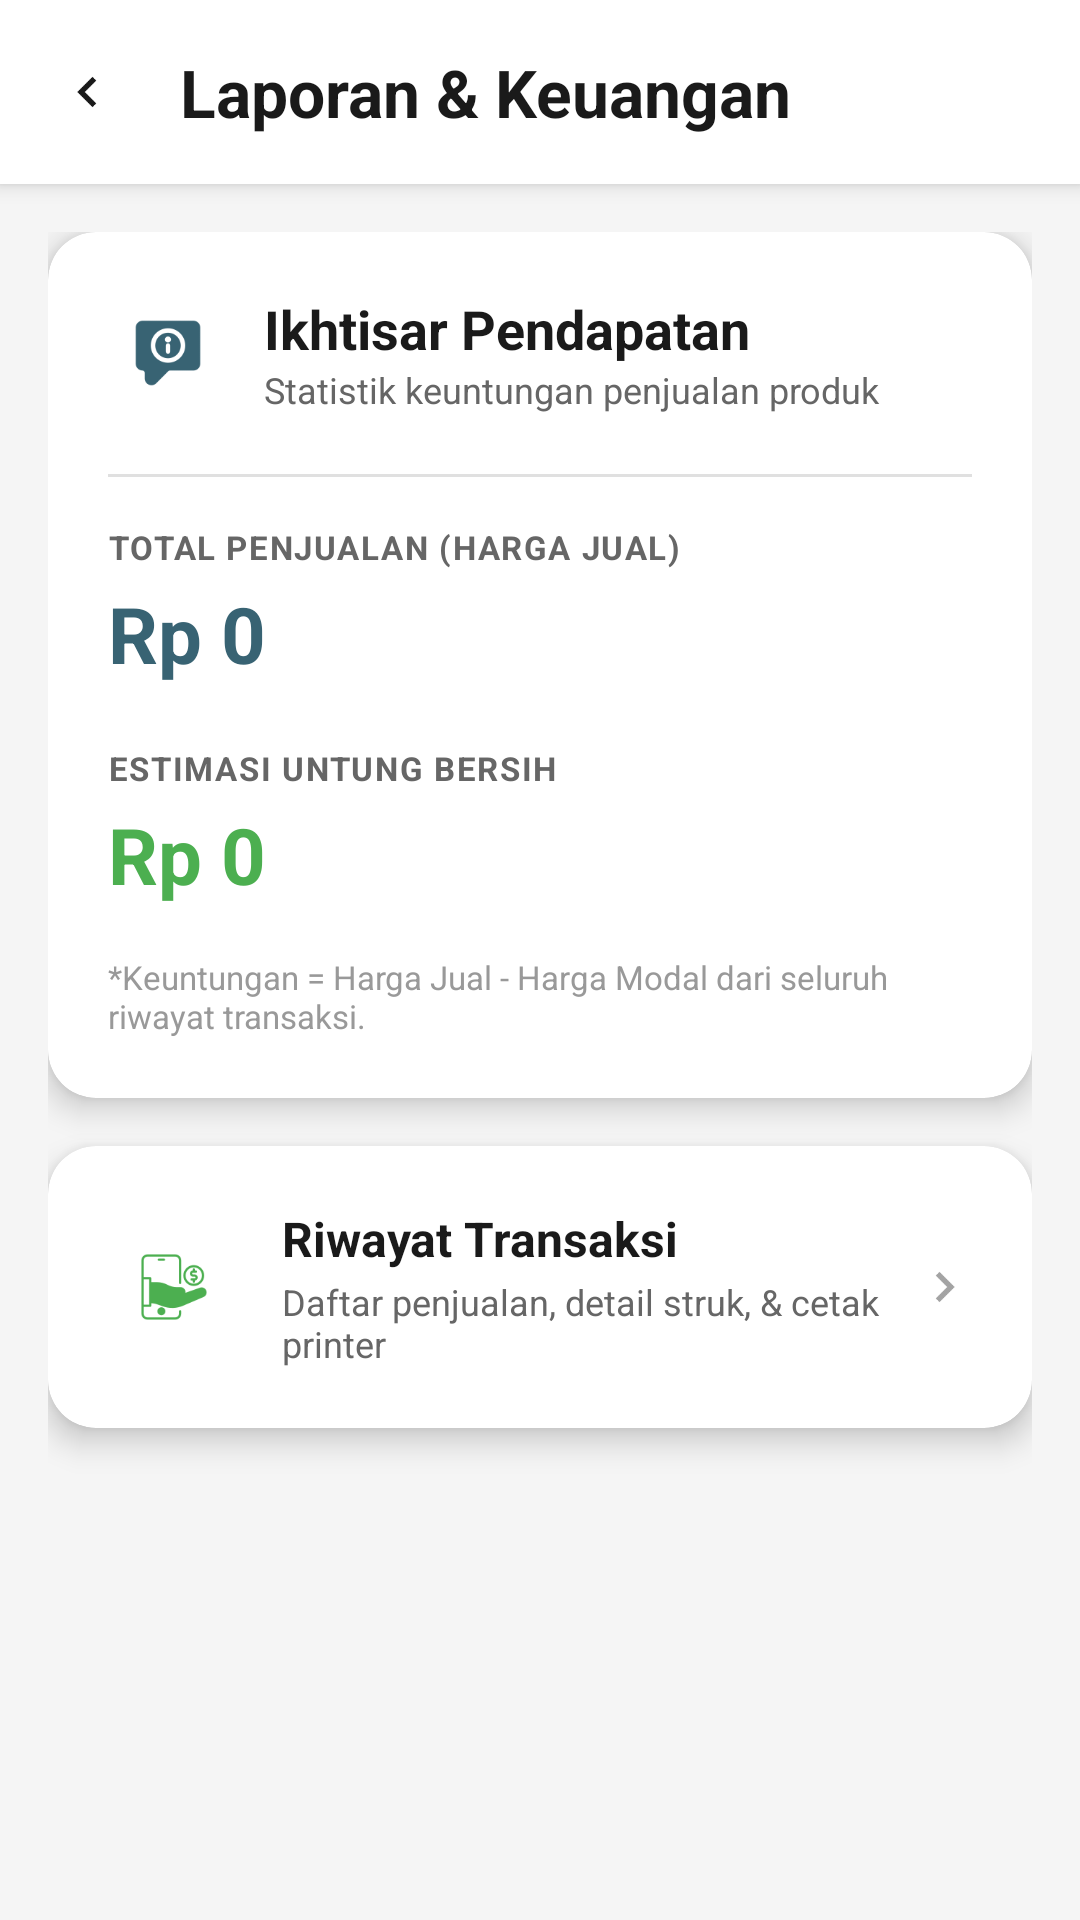

Screen size 1080px x 1920px. Icon name, then its box in pixels as (x1, y1, x2, y2):
Kembali: (77, 77, 96, 107)
report: (135, 320, 201, 386)
transaction: (141, 1254, 207, 1320)
